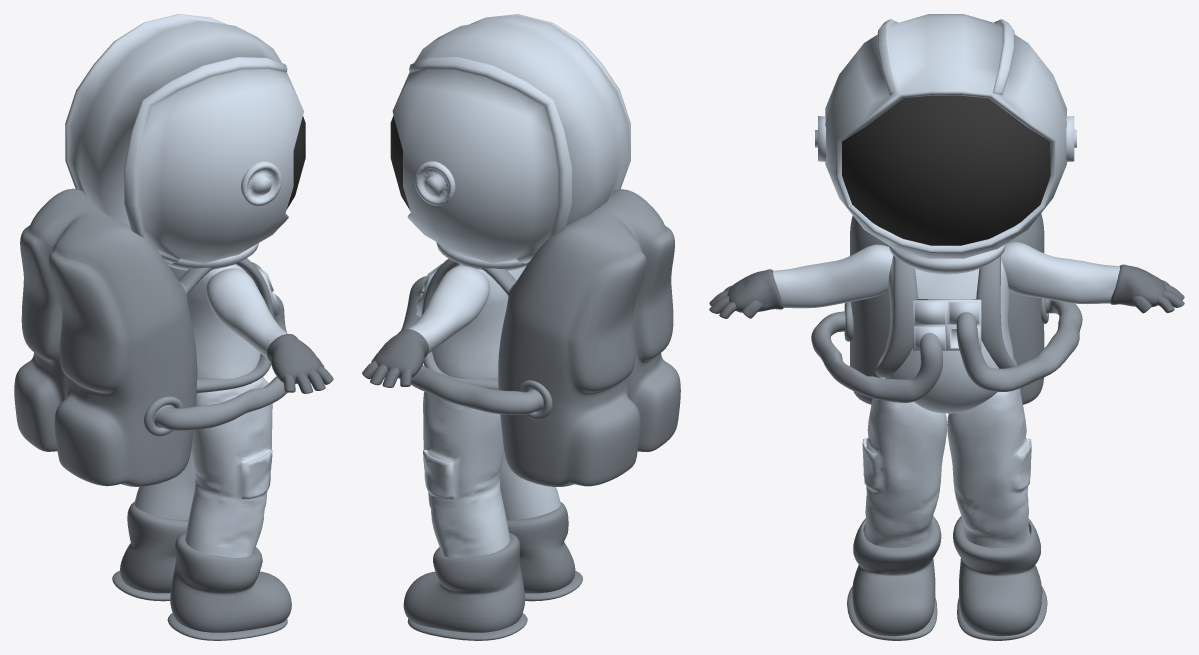
The model's file is ASTRANOT.fbx.
3 renders of one model, left to right at view 1: azimuth 30°, elevation 25°; view 2: azimuth 150°, elevation 25°; view 3: azimuth 270°, elevation 25°, orthographic.
Visible parts, largest first — view 1: KARAKTER; view 2: KARAKTER; view 3: KARAKTER.
Boxes of the visible parts, <box> form: KARAKTER: <box>14,14,333,640</box>; KARAKTER: <box>362,14,680,640</box>; KARAKTER: <box>709,14,1184,640</box>.
Size of the model in its own units: 215 by 482 by 354.
